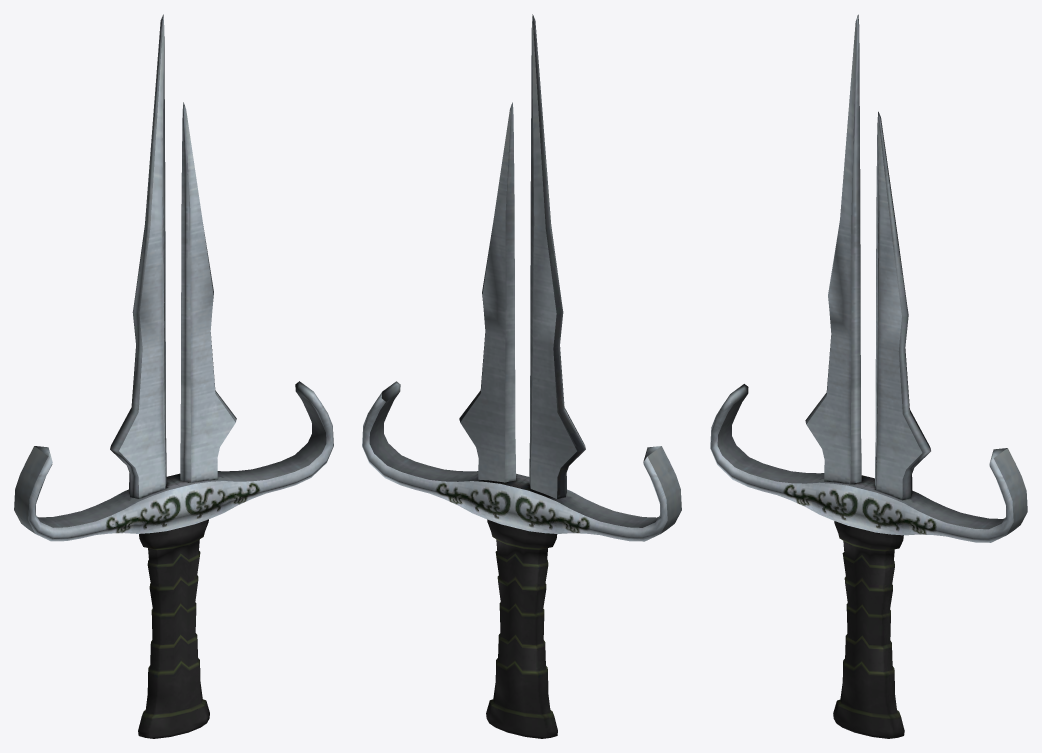
Rendered from Dagger.obj.
3 renders of one model, left to right at view 1: azimuth 30°, elevation 25°; view 2: azimuth 150°, elevation 25°; view 3: azimuth 330°, elevation 25°, orthographic.
Visible parts, largest first — view 1: Meshpart1; view 2: Meshpart1; view 3: Meshpart1.
Boxes of the visible parts, x1,y1,x2,y2 form: Meshpart1: [14, 14, 333, 738]; Meshpart1: [362, 14, 681, 738]; Meshpart1: [710, 14, 1027, 738].
Size of the model in its own units: 1.57 by 3.53 by 0.1679.
Materials: 1 (1 with a texture image).
